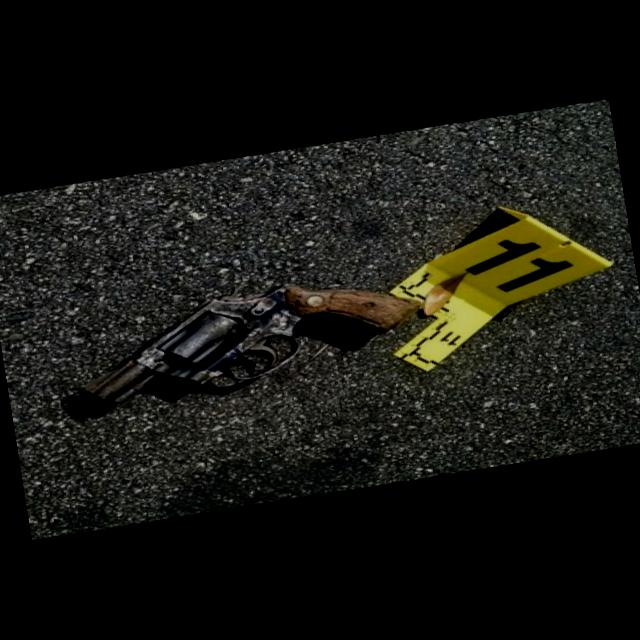handgun: (59, 245, 436, 430)
